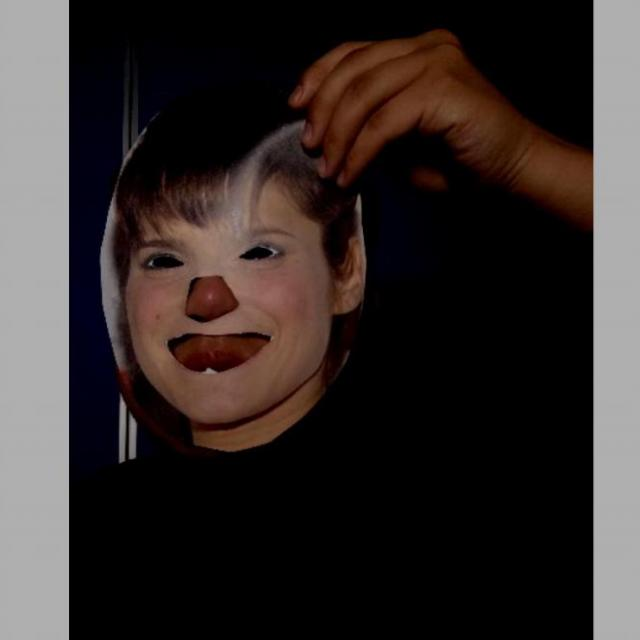mask: (96, 79, 371, 459)
